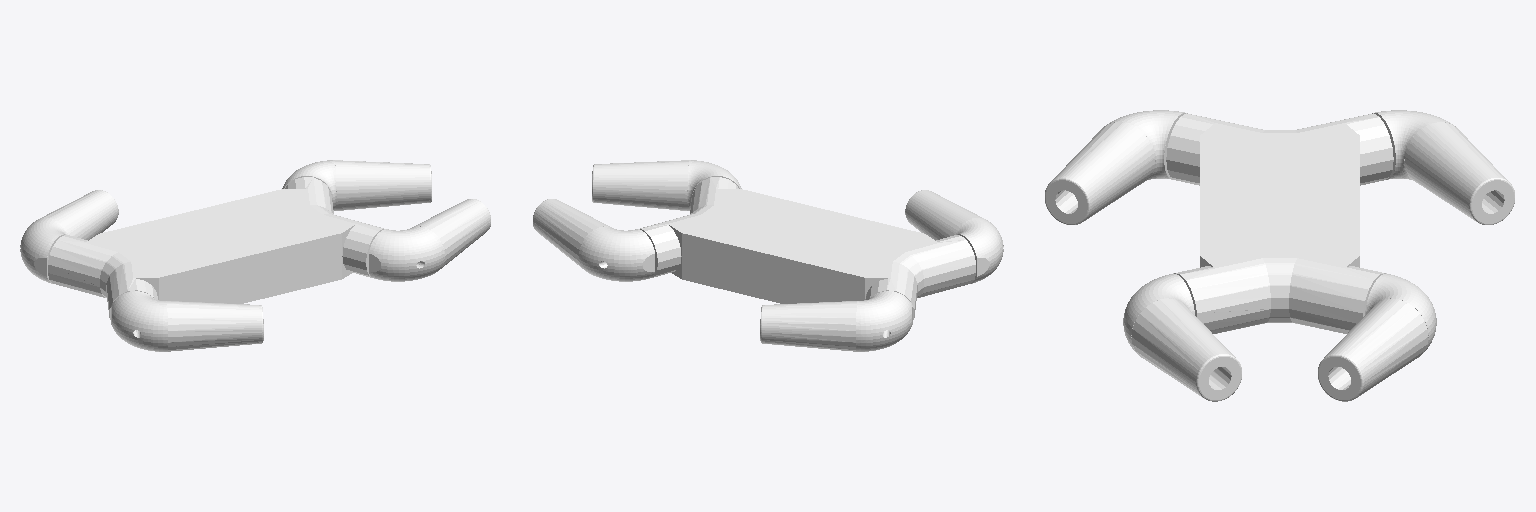
The robot description file, URDF, robot "27_degree":
<?xml version="1.0" encoding="utf-8"?>
<!-- This URDF was automatically created by SolidWorks to URDF Exporter! Originally created by [author] ([email redacted]) 
     Commit Version: 1.5.1-0-g916b5db  Build Version: 1.5.7152.31018
     For more information, please see http://wiki.ros.org/sw_urdf_exporter -->
<robot
  name="27_degree">
  <link
    name="base_link">
    <inertial>
      <origin
        xyz="6.9389E-18 5.182E-08 -1.4882E-10"
        rpy="0 0 0" />
      <mass
        value="2.942" />
      <inertia
        ixx="0.0094017"
        ixy="-2.3681E-08"
        ixz="-1.5286E-10"
        iyy="0.0483334"
        iyz="2.0828E-18"
        izz="0.0553005" />
    </inertial>
    <visual>
      <origin
        xyz="0 0 0"
        rpy="0 0 0" />
      <geometry>
        <mesh
          filename="package://27_degree/meshes/base_link.STL" />
      </geometry>
      <material
        name="">
        <color
          rgba="1 1 1 1" />
      </material>
    </visual>
    <collision>
      <origin
        xyz="0 0 0"
        rpy="0 0 0" />
      <geometry>
        <mesh
          filename="package://27_degree/meshes/base_link.STL" />
      </geometry>
    </collision>
  </link>
  <link
    name="left_front_link">
    <inertial>
      <origin
        xyz="-9.167E-08 0.066987 -0.0062834"
        rpy="0 0 0" />
      <mass
        value="0.092" />
      <inertia
        ixx="0.0002604"
        ixy="1.5816E-10"
        ixz="7.789E-10"
        iyy="0.0000765"
        iyz="-0.0000696"
        izz="0.0002336" />
    </inertial>
    <visual>
      <origin
        xyz="0 0 0"
        rpy="0 0 0" />
      <geometry>
        <mesh
          filename="package://27_degree/meshes/left_front_link.STL" />
      </geometry>
      <material
        name="">
        <color
          rgba="1 1 1 1" />
      </material>
    </visual>
    <collision>
      <origin
        xyz="0 0 0"
        rpy="0 0 0" />
      <geometry>
        <mesh
          filename="package://27_degree/meshes/left_front_link.STL" />
      </geometry>
    </collision>
  </link>
  <joint
    name="left_front_leg"
    type="continuous">
    <origin
      xyz="0.17676 0.091774 0"
      rpy="1.5708 1.5708 0" />
    <parent
      link="base_link" />
    <child
      link="left_front_link" />
    <axis
      xyz="0 0.45399 -0.89101" />
    <limit
      effort="5"
      velocity="487" />
  </joint>
  <link
    name="right_front_link">
    <inertial>
      <origin
        xyz="9.167E-08 0.066987 0.0062834"
        rpy="0 0 0" />
      <mass
        value="0.092" />
      <inertia
        ixx="0.0002604"
        ixy="-1.5816E-10"
        ixz="7.789E-10"
        iyy="0.0000765"
        iyz="0.0000696"
        izz="0.0002336" />
    </inertial>
    <visual>
      <origin
        xyz="0 0 0"
        rpy="0 0 0" />
      <geometry>
        <mesh
          filename="package://27_degree/meshes/right_front_link.STL" />
      </geometry>
      <material
        name="">
        <color
          rgba="1 1 1 1" />
      </material>
    </visual>
    <collision>
      <origin
        xyz="0 0 0"
        rpy="0 0 0" />
      <geometry>
        <mesh
          filename="package://27_degree/meshes/right_front_link.STL" />
      </geometry>
    </collision>
  </link>
  <joint
    name="right_front_leg"
    type="continuous">
    <origin
      xyz="0.17676 -0.091774 0"
      rpy="1.5708 1.5708 0" />
    <parent
      link="base_link" />
    <child
      link="right_front_link" />
    <axis
      xyz="0 0.45399 0.89101" />
    <limit
      effort="5"
      velocity="487" />
  </joint>
  <link
    name="right_back_link">
    <inertial>
      <origin
        xyz="8.2103E-08 0.056834 0.03601"
        rpy="0 0 0" />
      <mass
        value="0.092" />
      <inertia
        ixx="0.0002604"
        ixy="-5.0746E-10"
        ixz="1.8539E-10"
        iyy="0.0000526"
        iyz="-2.27E-05"
        izz="0.0002575" />
    </inertial>
    <visual>
      <origin
        xyz="0 0 0"
        rpy="0 0 0" />
      <geometry>
        <mesh
          filename="package://27_degree/meshes/right_back_link.STL" />
      </geometry>
      <material
        name="">
        <color
          rgba="1 1 1 1" />
      </material>
    </visual>
    <collision>
      <origin
        xyz="0 0 0"
        rpy="0 0 0" />
      <geometry>
        <mesh
          filename="package://27_degree/meshes/right_back_link.STL" />
      </geometry>
    </collision>
  </link>
  <joint
    name="right_back_leg"
    type="continuous">
    <origin
      xyz="-0.17676 -0.091774 0"
      rpy="0.47124 1.5708 -1.5708" />
    <parent
      link="base_link" />
    <child
      link="right_back_link" />
    <axis
      xyz="0 0 1" />
    <limit
      effort="5"
      velocity="487" />
  </joint>
  <link
    name="left_back_link">
    <inertial>
      <origin
        xyz="-8.2103E-08 0.034291 -0.057888"
        rpy="0 0 0" />
      <mass
        value="0.092" />
      <inertia
        ixx="0.0002604"
        ixy="5.3631E-10"
        ixz="-6.5199E-11"
        iyy="0.0001132"
        iyz="0.0000962"
        izz="0.000197" />
    </inertial>
    <visual>
      <origin
        xyz="0 0 0"
        rpy="0 0 0" />
      <geometry>
        <mesh
          filename="package://27_degree/meshes/left_back_link.STL" />
      </geometry>
      <material
        name="">
        <color
          rgba="1 1 1 1" />
      </material>
    </visual>
    <collision>
      <origin
        xyz="0 0 0"
        rpy="0 0 0" />
      <geometry>
        <mesh
          filename="package://27_degree/meshes/left_back_link.STL" />
      </geometry>
    </collision>
  </link>
  <joint
    name="left_back_leg"
    type="continuous">
    <origin
      xyz="-0.17676 0.091774 0"
      rpy="1.5708 1.5708 0" />
    <parent
      link="base_link" />
    <child
      link="left_back_link" />
    <axis
      xyz="0 -0.45399 -0.89101" />
    <limit
      effort="5"
      velocity="487" />
  </joint>
</robot>

--- Render facts (derived) ---
3 views of the same robot in one strip: view 1: azimuth 30°, elevation 25°; view 2: azimuth 150°, elevation 25°; view 3: azimuth 270°, elevation 25° (orthographic).
Model 27_degree with 5 links and 4 joints (4 continuous), rooted at base_link, posed every joint at zero.
Links seen in each view (by area): view 1: base_link, right_back_link, right_front_link, left_front_link, left_back_link; view 2: base_link, left_back_link, left_front_link, right_front_link, right_back_link; view 3: base_link, right_back_link, left_back_link, left_front_link, right_front_link.
Boxes of the visible links, x1=… form: base_link: x1=48, y1=177, x2=383, y2=319; right_back_link: x1=111, y1=291, x2=263, y2=351; right_front_link: x1=369, y1=199, x2=490, y2=281; left_front_link: x1=282, y1=160, x2=431, y2=210; left_back_link: x1=20, y1=190, x2=118, y2=283; base_link: x1=640, y1=177, x2=975, y2=319; left_back_link: x1=760, y1=291, x2=912, y2=351; left_front_link: x1=533, y1=199, x2=654, y2=281; right_front_link: x1=592, y1=160, x2=741, y2=210; right_back_link: x1=905, y1=190, x2=1003, y2=283; base_link: x1=1166, y1=113, x2=1393, y2=333; right_back_link: x1=1045, y1=110, x2=1187, y2=224; left_back_link: x1=1372, y1=110, x2=1514, y2=224; left_front_link: x1=1318, y1=273, x2=1436, y2=401; right_front_link: x1=1123, y1=273, x2=1241, y2=401.
Size in the robot's own frame: 0.5599 by 0.4403 by 0.064 metres.
Meshes: 5 distinct files referenced, 5 mesh visuals loaded (5 binary STL).